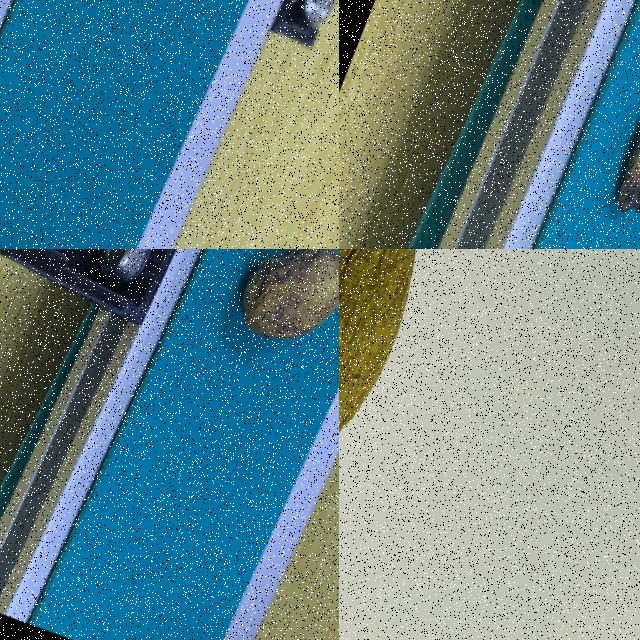Fine_cocoabeans: (339, 249, 520, 565), (167, 249, 338, 441)
Flat_cocoabeans: (498, 17, 639, 248)
